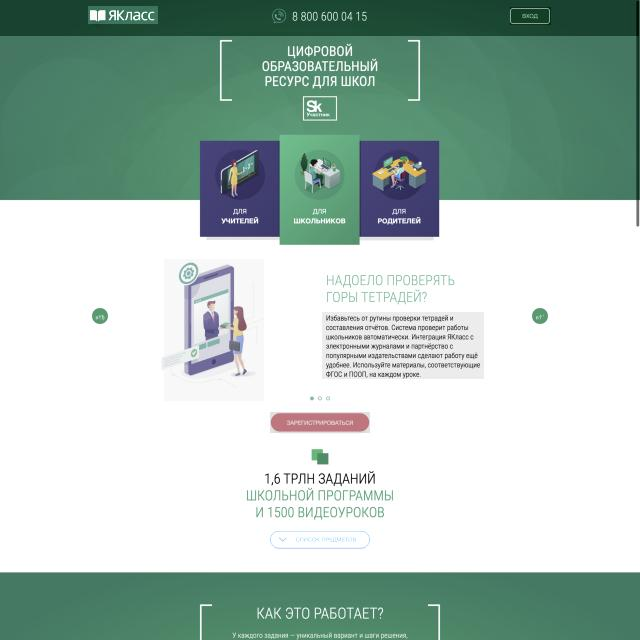CheckBox: (270, 412, 370, 433), (510, 7, 551, 25)
Input field: (322, 312, 484, 379)
alert: (270, 530, 370, 548)
bag: (0, 0, 639, 36)
breadcrumbs: (326, 271, 463, 306)
content: (164, 259, 264, 401)
date picker: (88, 6, 158, 24)
dropdown: (306, 390, 333, 402)
